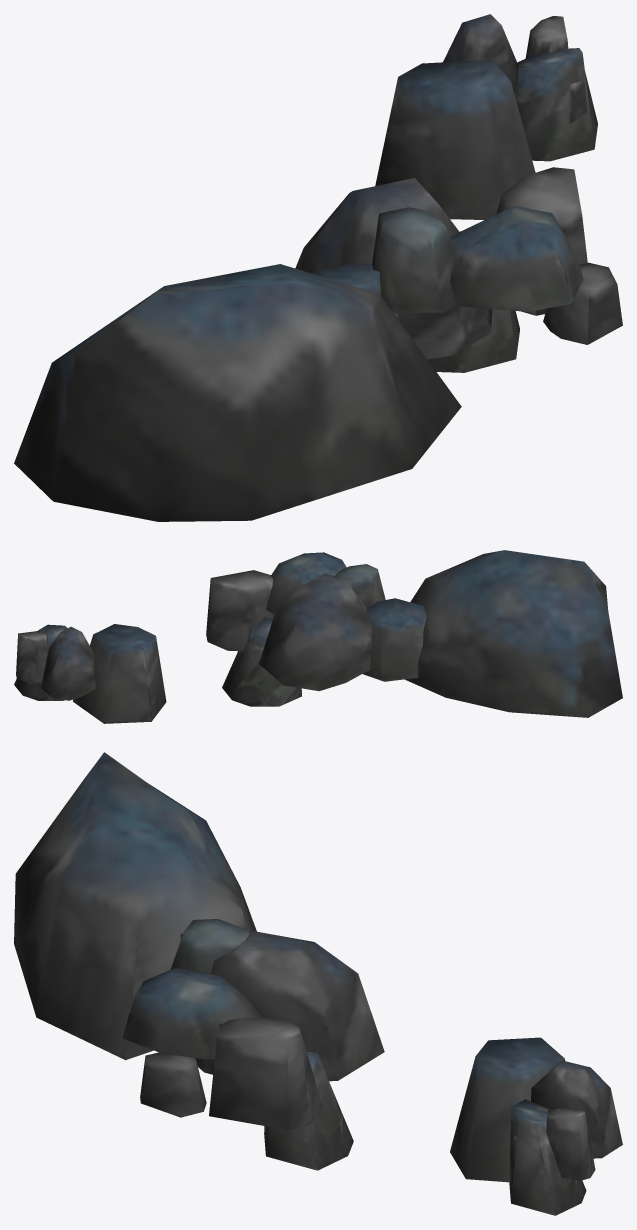
File: Area_15_31.fbx
The picture shows the model from 3 angles, top to bottom: view 1: azimuth 30°, elevation 25°; view 2: azimuth 150°, elevation 25°; view 3: azimuth 270°, elevation 25°; orthographic projection. The views are drawn at different scales.
Parts seen in each view (by area): view 1: Area_15_31; view 2: Area_15_31; view 3: Area_15_31.
Part boxes in pixels (left/top/right/bottom): Area_15_31: left=14, top=14, right=622, bottom=521; Area_15_31: left=14, top=550, right=622, bottom=723; Area_15_31: left=14, top=752, right=622, bottom=1215.
Size of the model in its own units: 2544 by 750 by 1962.
